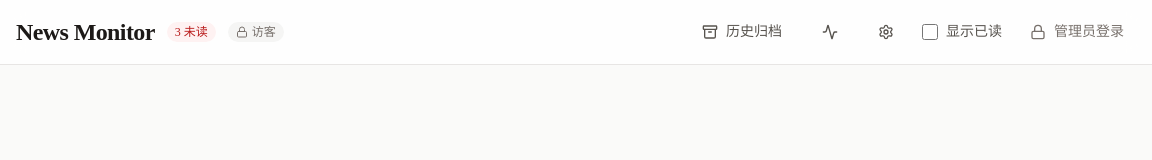
Test: Header 管理员登录 › 登录中禁用按钮并显示「校验中」，防止重复提交
Click the button "管理员登录" at point(1077, 32), box x1=1018 y1=14 x2=1136 y2=50
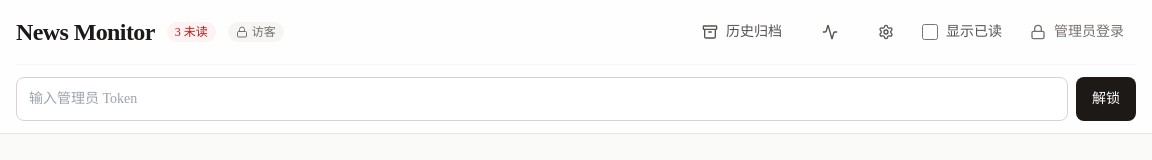
Type "tok" into the password field with placeholder "输入管理员 Token" at point(542, 99), box x1=16 y1=77 x2=1068 y2=121
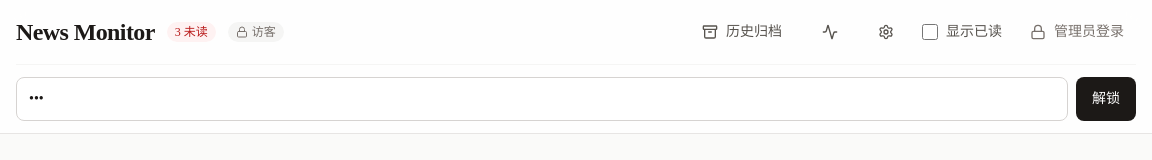
Click the button "解锁" at point(1106, 99), box x1=1076 y1=77 x2=1136 y2=121
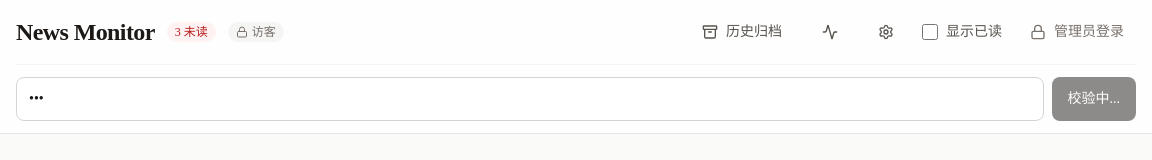
Check: the button "校验中..." is shown
Check: the button "校验中..." is disabled
Note: 校验期间再点一次不应产生第二次调用
Click the button "校验中..." at point(1094, 99), box x1=1052 y1=77 x2=1136 y2=121
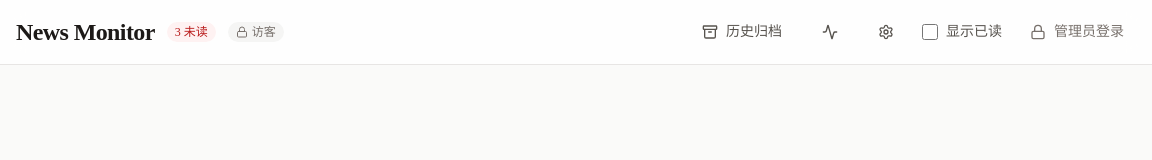
Check: the button "校验中..." is gone
